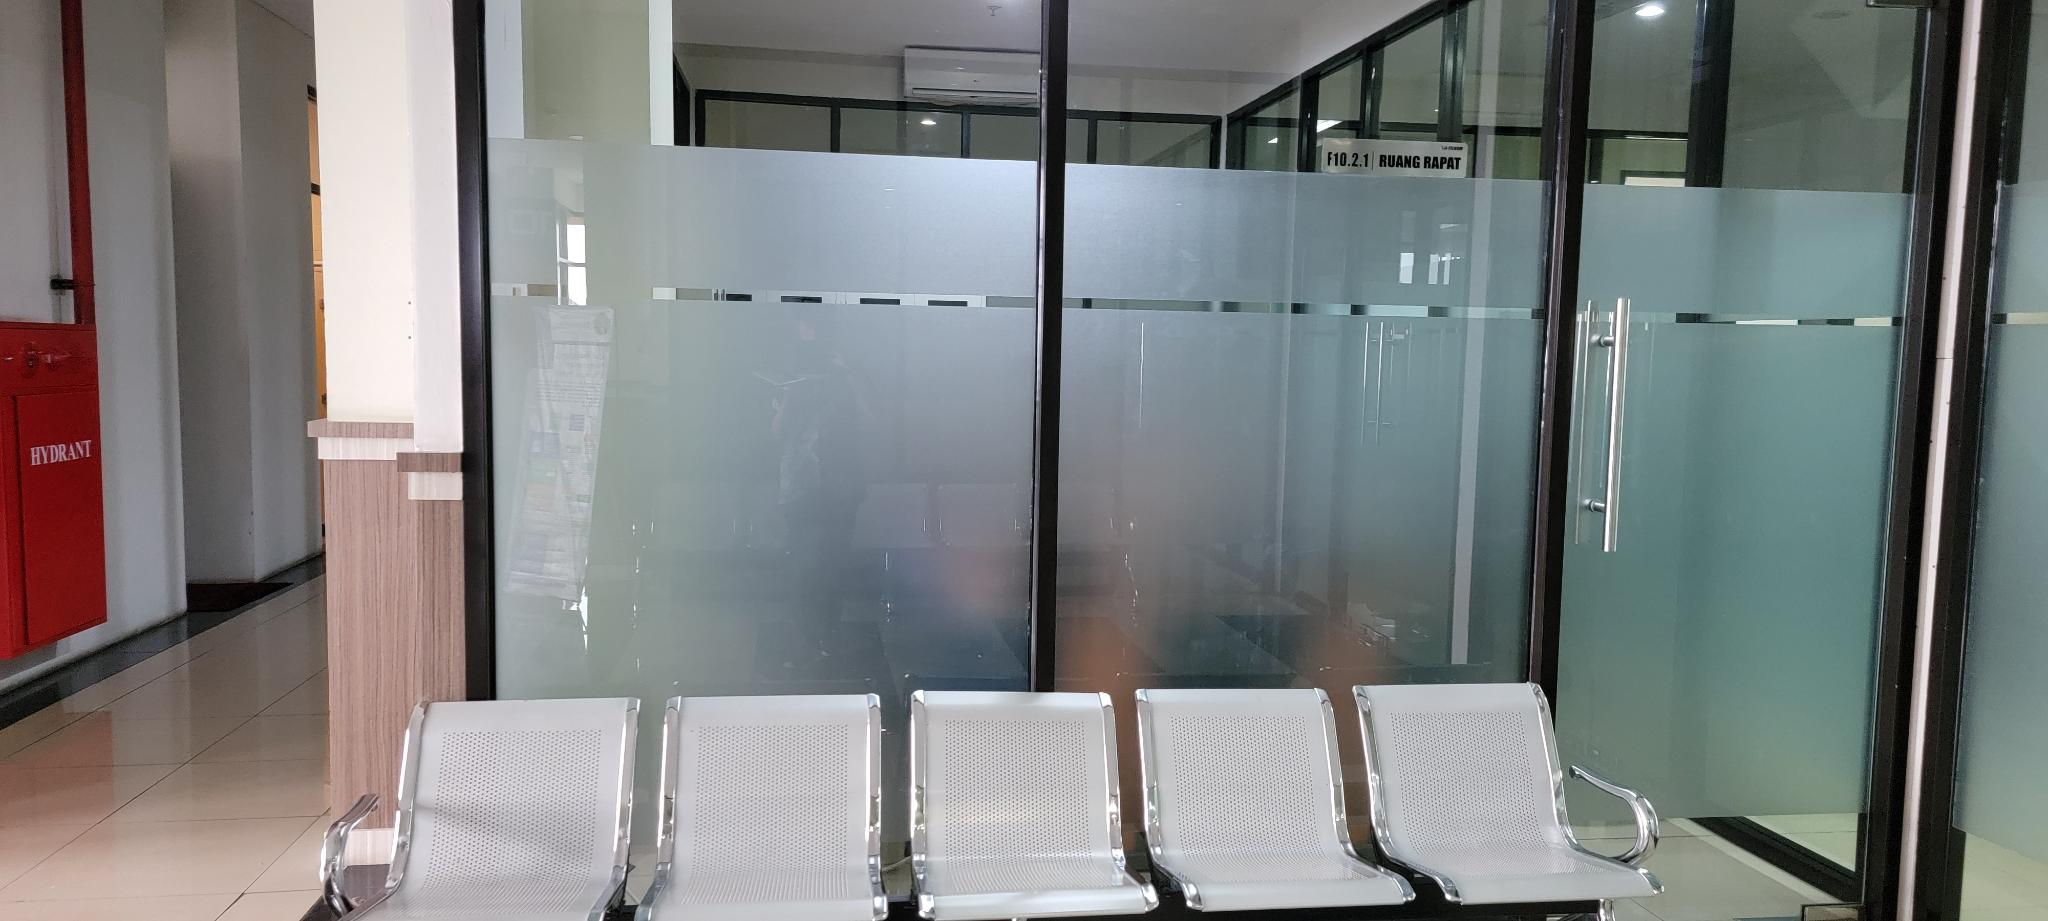plate: (1322, 136, 1467, 180)
